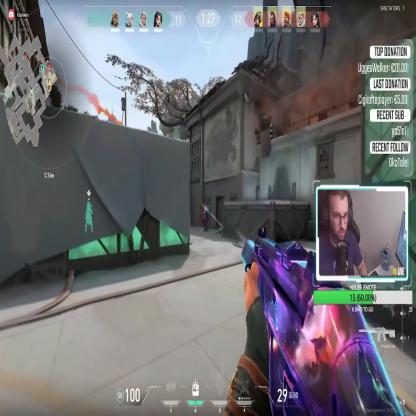enemy: (203, 204, 208, 232)
enemy_head: (204, 205, 206, 209)
